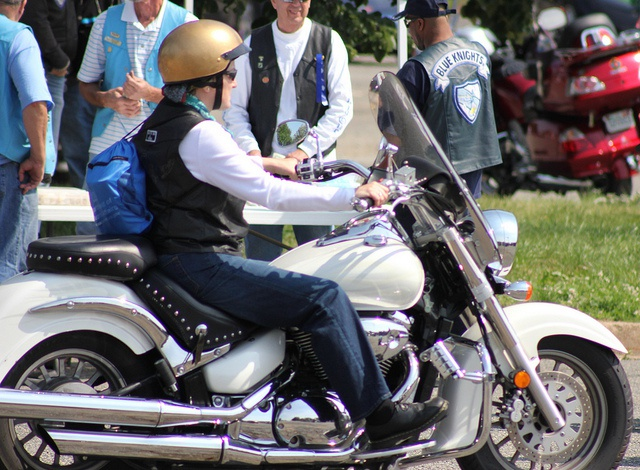non-vehicle: (0, 70, 633, 470), (487, 7, 640, 197)
